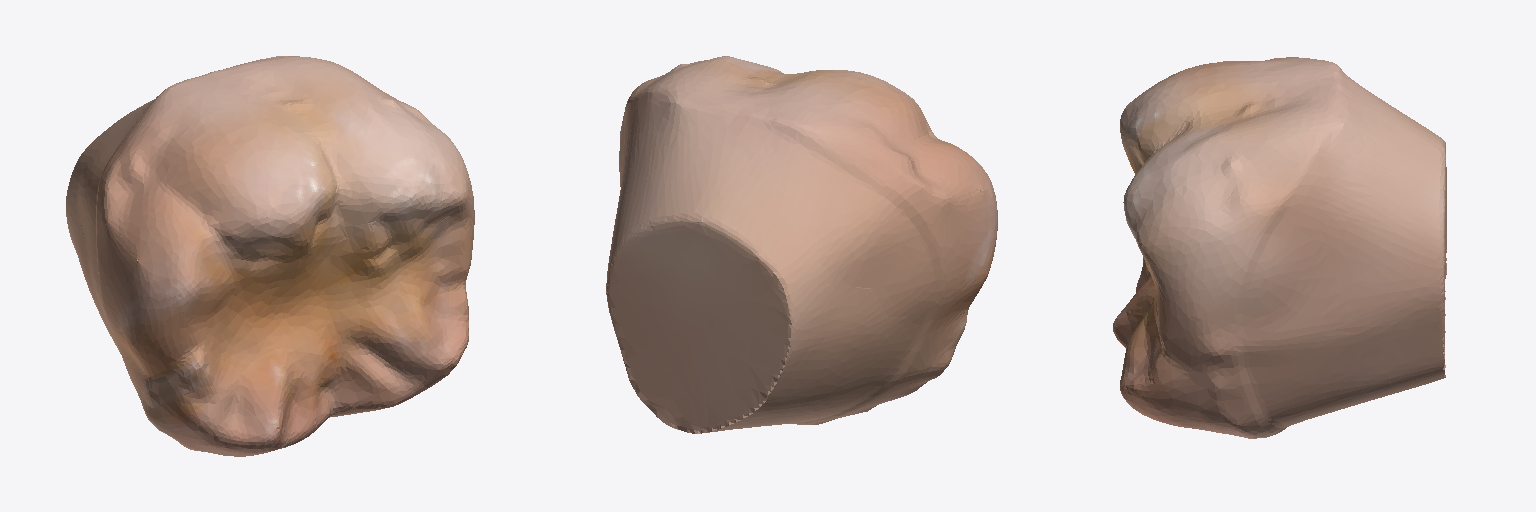
3 views of the same model, side by side, from view 1: azimuth 30°, elevation 25°; view 2: azimuth 150°, elevation 25°; view 3: azimuth 270°, elevation 25° (orthographic).
Size of the model in its own units: 11.8 by 11.05 by 9.9.
Materials: 1 (1 with a texture image).